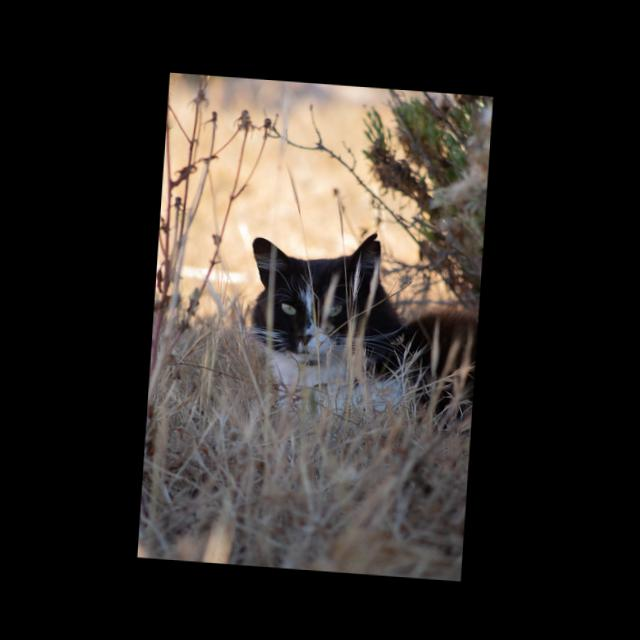animals: (241, 222, 484, 422)
